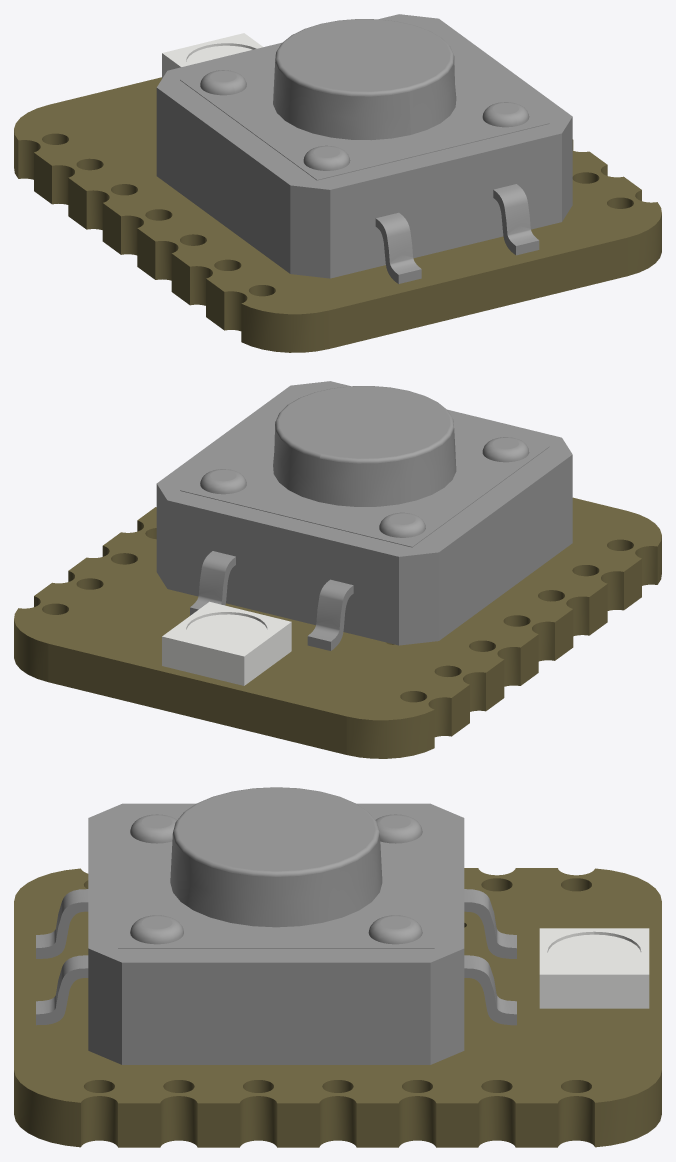
Rendered from ada-5666.glb.
The picture shows the model from 3 angles, top to bottom: view 1: azimuth 30°, elevation 25°; view 2: azimuth 150°, elevation 25°; view 3: azimuth 270°, elevation 25°; orthographic projection. The views are drawn at different scales.
Visible parts, largest first — view 1: 0.3333333333333333_0.3333333333333333_0.3333333333333333_0, 0.16666666666666666_0.16666666666666666_0.08333333333333333_, 0.9166666666666666_0.9166666666666666_0.9166666666666666_0.8; view 2: 0.3333333333333333_0.3333333333333333_0.3333333333333333_0, 0.16666666666666666_0.16666666666666666_0.08333333333333333_, 0.9166666666666666_0.9166666666666666_0.9166666666666666_0.8; view 3: 0.3333333333333333_0.3333333333333333_0.3333333333333333_0, 0.16666666666666666_0.16666666666666666_0.08333333333333333_, 0.9166666666666666_0.9166666666666666_0.9166666666666666_0.8.
Part boxes in pixels (left/top/right/bottom): 0.3333333333333333_0.3333333333333333_0.3333333333333333_0: left=156, top=14, right=572, bottom=283; 0.16666666666666666_0.16666666666666666_0.08333333333333333_: left=14, top=77, right=661, bottom=352; 0.9166666666666666_0.9166666666666666_0.9166666666666666_0.8: left=162, top=33, right=263, bottom=78; 0.3333333333333333_0.3333333333333333_0.3333333333333333_0: left=156, top=381, right=572, bottom=650; 0.16666666666666666_0.16666666666666666_0.08333333333333333_: left=14, top=497, right=661, bottom=758; 0.9166666666666666_0.9166666666666666_0.9166666666666666_0.8: left=162, top=601, right=291, bottom=685; 0.3333333333333333_0.3333333333333333_0.3333333333333333_0: left=36, top=787, right=516, bottom=1064; 0.16666666666666666_0.16666666666666666_0.08333333333333333_: left=14, top=868, right=661, bottom=1147; 0.9166666666666666_0.9166666666666666_0.9166666666666666_0.8: left=539, top=928, right=649, bottom=1008.
Size of the model in its own units: 1.78 by 0.7073 by 2.07.
